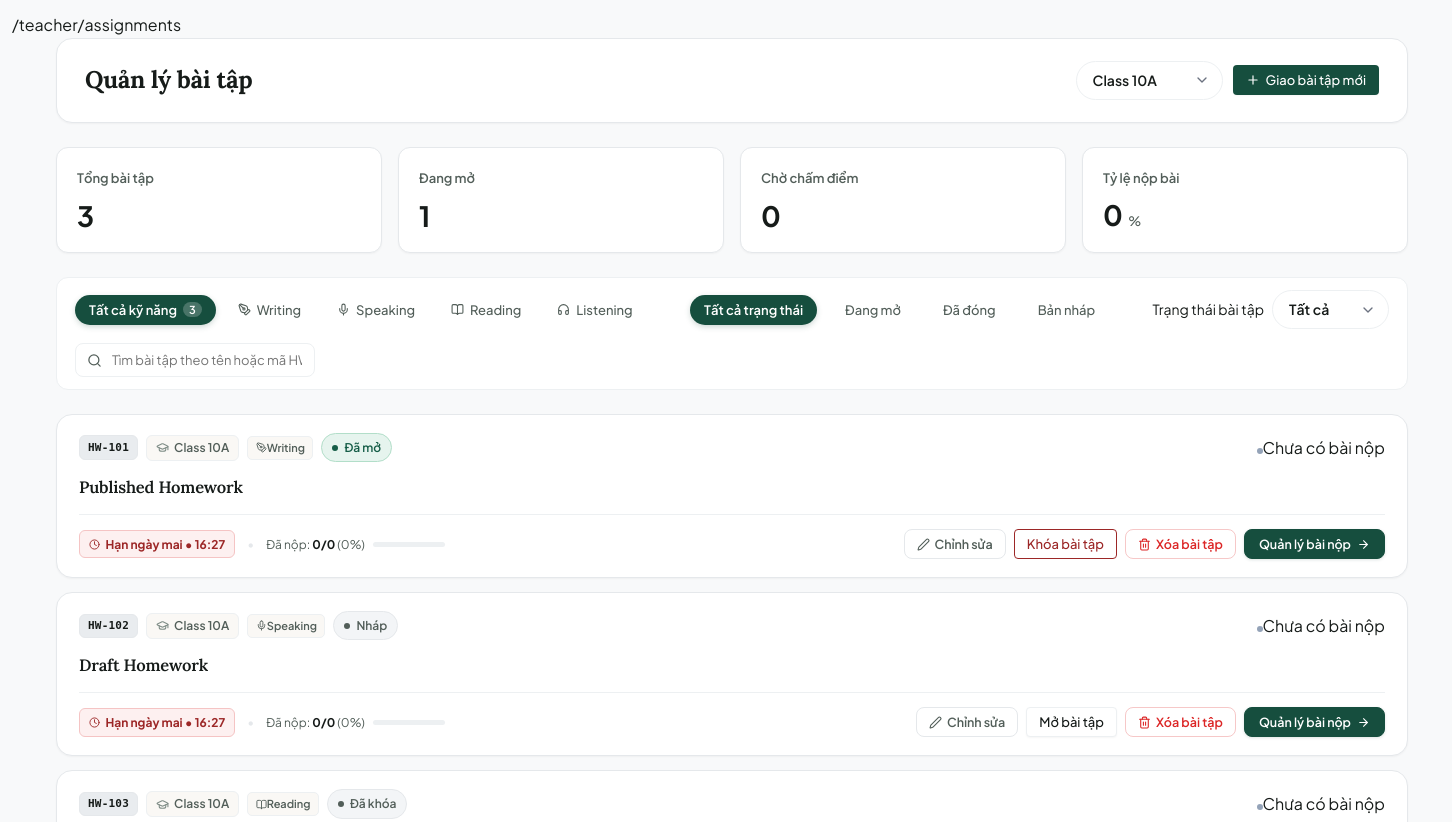
Test case: FE-108 Assignment Filters, Creation Guard & AI Refresh › Issue #369: Status filter pills in TeacherAssignments › renders status filter tabs and filters list by status
This screenshot has width=1452, height=822.
Expected: the heading "Published Homework" is shown, [79,476,243,498]
Expected: the heading "Draft Homework" is shown, [79,654,208,676]
Note: Click "Đang mở" (Published) pill
Click the button "Đang mở".
click(870, 310)  # box [825,295,915,325]
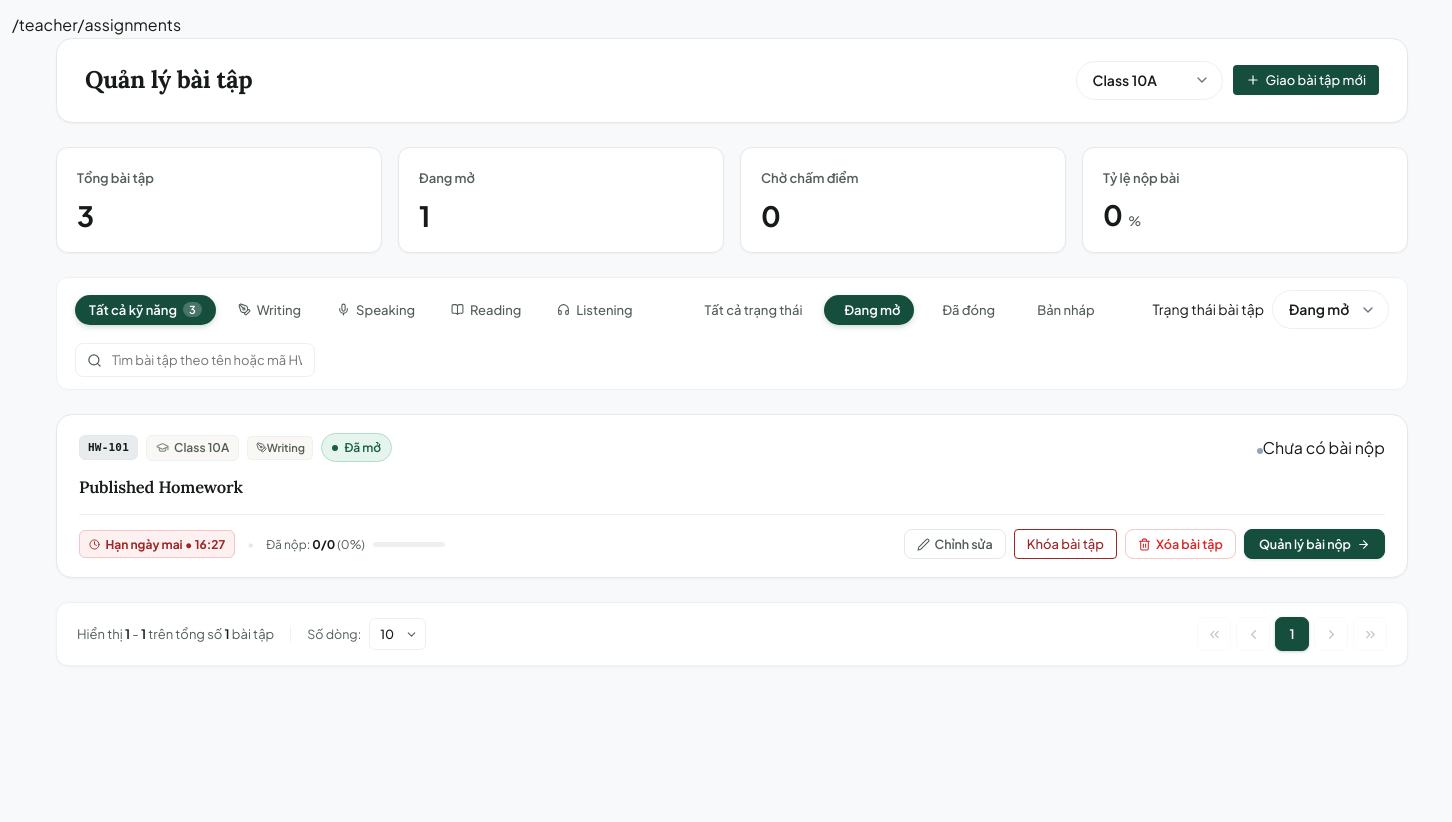
Expected: the heading "Published Homework" is shown, [79,476,243,498]
Now the heading "Draft Homework" is gone
Note: Click "Bản nháp" (Draft) pill
Click the button "Bản nháp".
click(1063, 310)  # box [1017,295,1109,325]
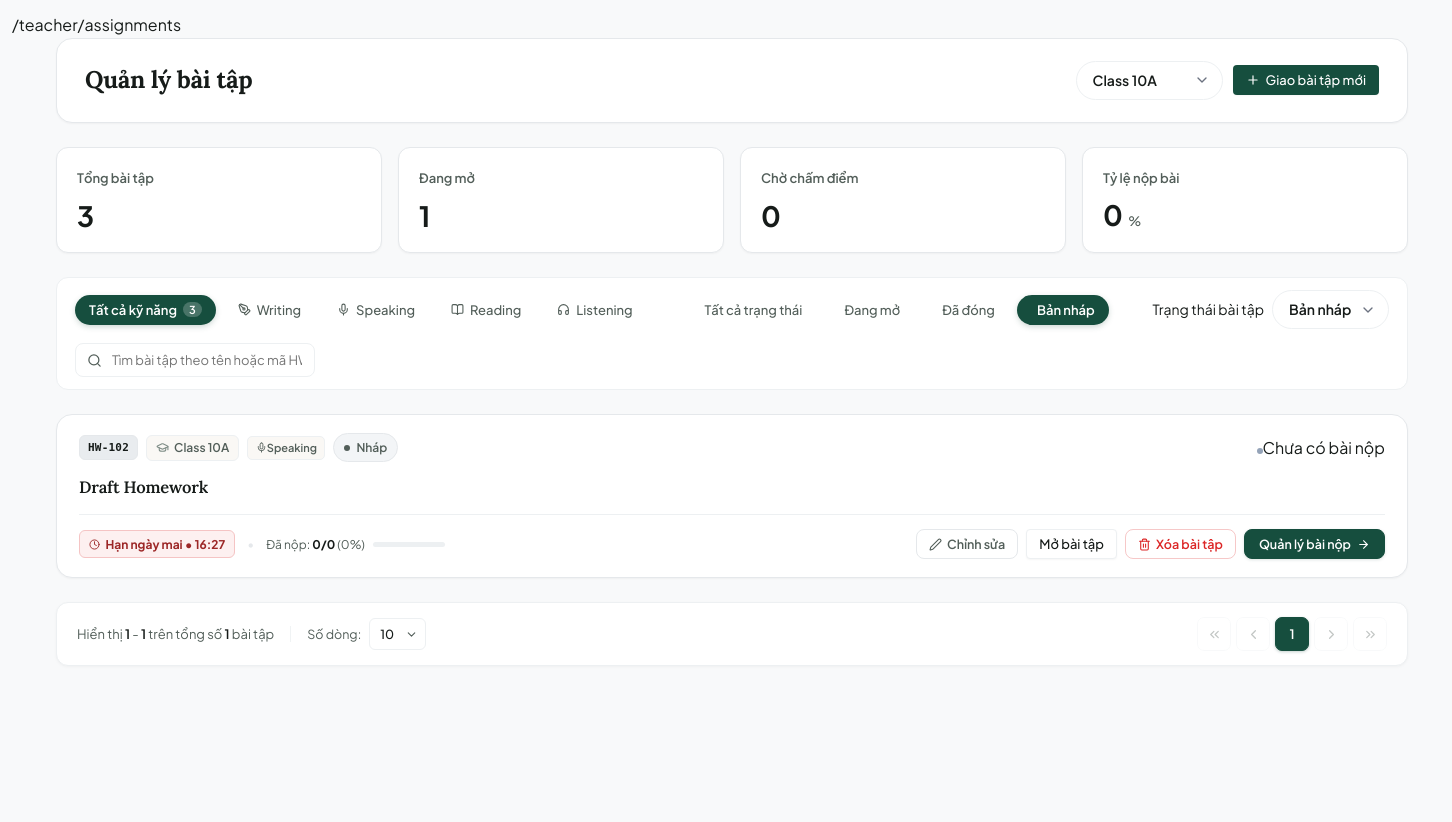
Now the heading "Draft Homework" is shown, box [79,476,208,498]
Now the heading "Published Homework" is gone
